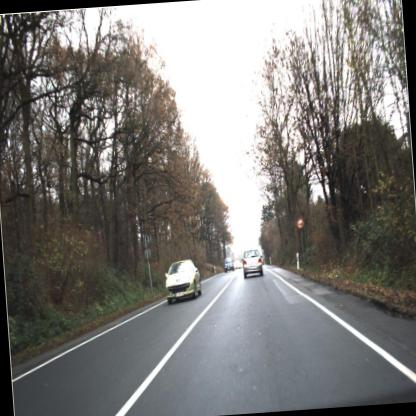prohibitory: (296, 213, 308, 235)
